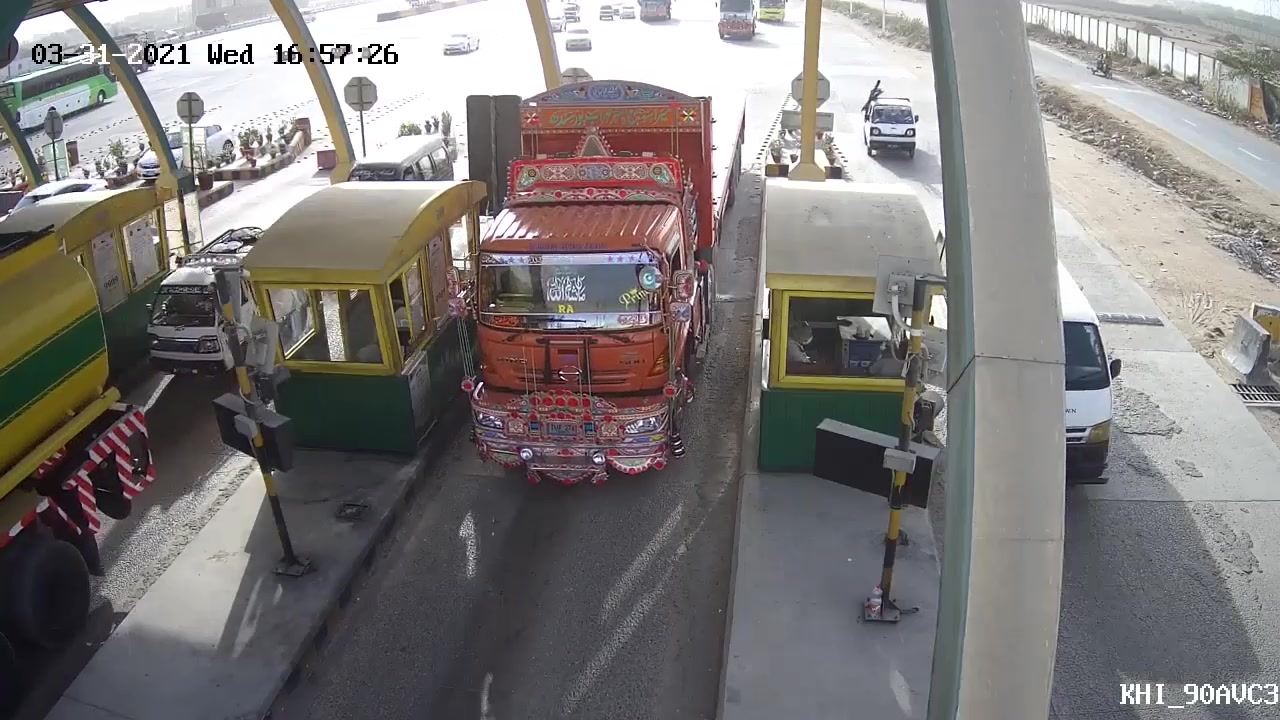F6: (417, 72, 753, 477)
